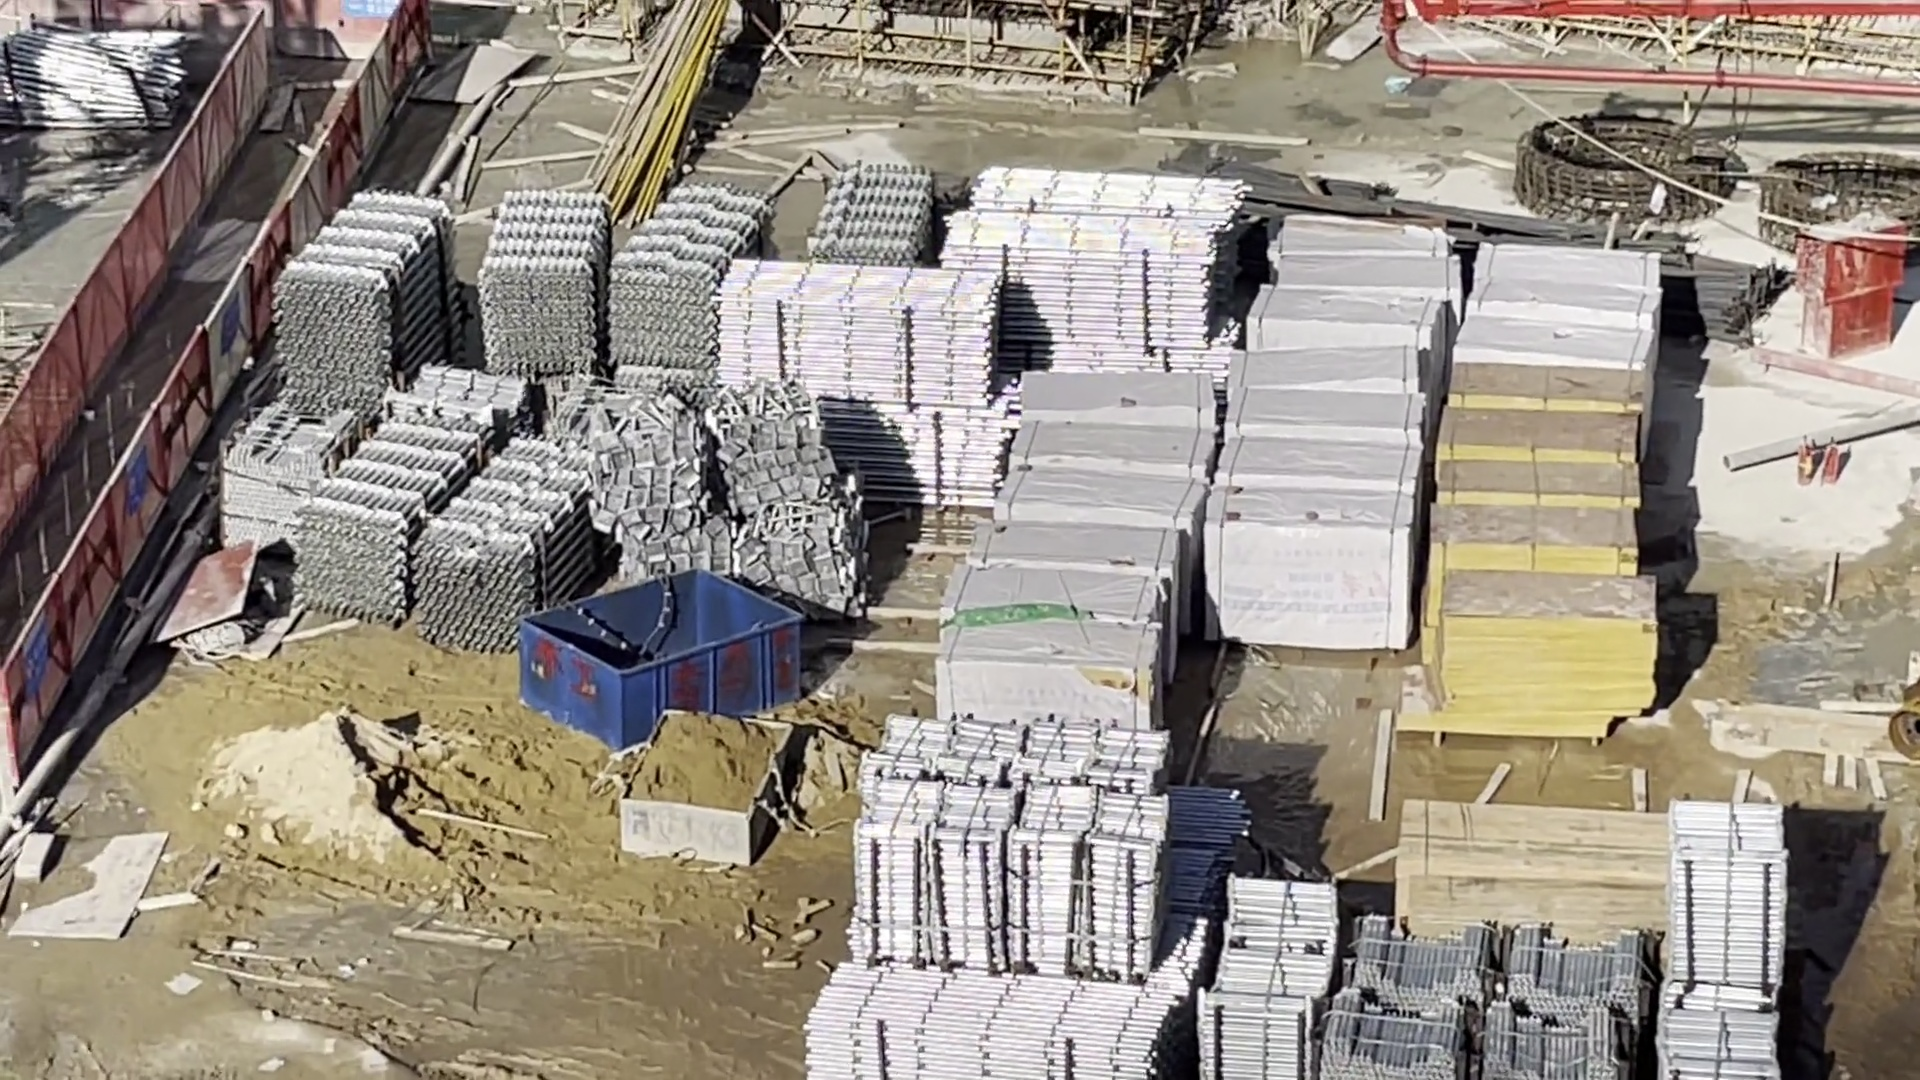board: (1435, 361, 1648, 746), (1402, 800, 1651, 934)
fence: (5, 7, 385, 737)
hopper: (520, 568, 800, 745), (618, 708, 793, 866)
rebar: (1258, 165, 1782, 334)
scaffold: (858, 719, 1160, 984), (711, 261, 1006, 506), (306, 429, 588, 647), (945, 167, 1242, 367), (1323, 916, 1651, 1073), (485, 193, 769, 373), (802, 965, 1182, 1080), (1659, 800, 1792, 1080), (281, 200, 454, 411), (1204, 877, 1333, 1079), (1, 26, 181, 127), (811, 169, 934, 274)
slogan: (22, 612, 47, 695), (124, 440, 152, 510), (342, 1, 402, 22)
